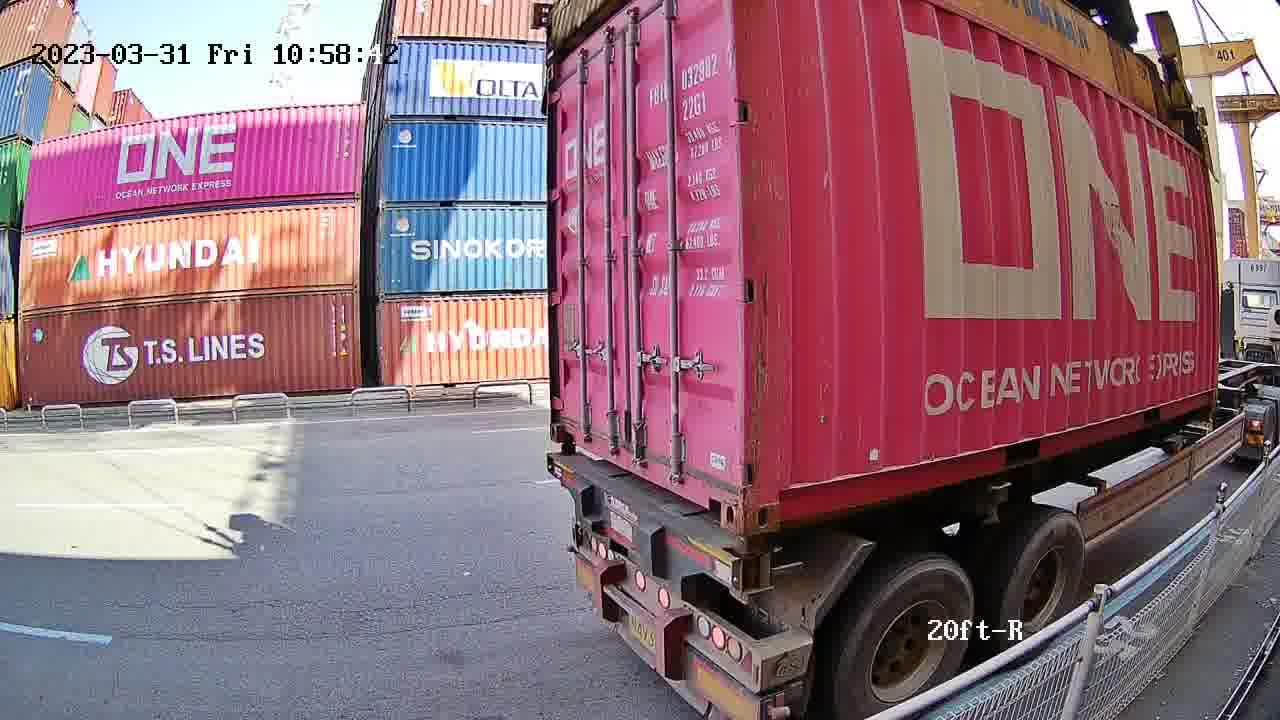Chassis: (546, 454, 760, 594)
Cone: (736, 540, 770, 595)
Hole_L: (744, 467, 806, 536), (548, 401, 581, 449)
Hole_R: (697, 449, 742, 536)
Tire: (838, 559, 974, 717), (1003, 514, 1085, 651)
